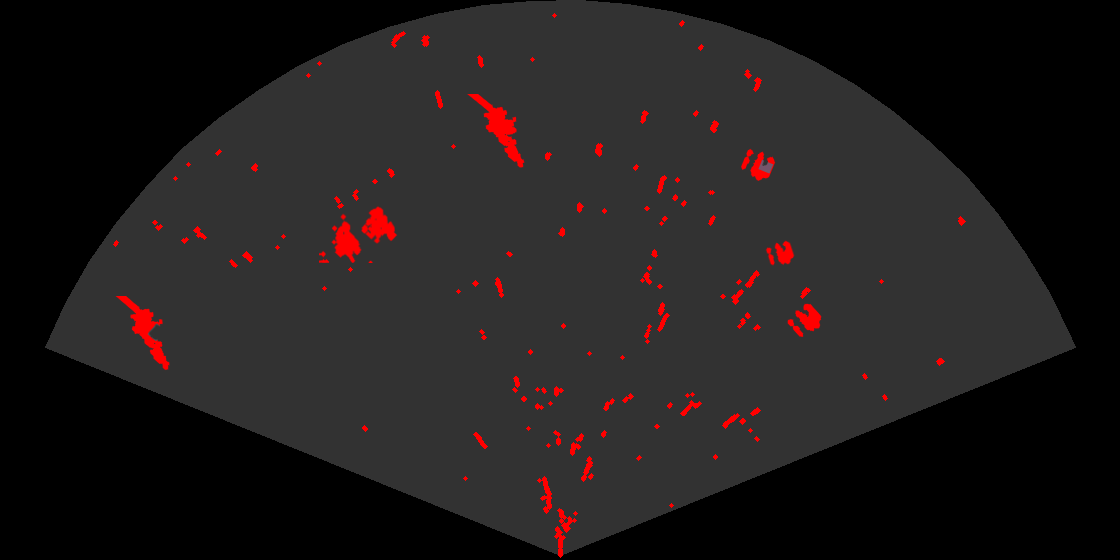ball: (786, 302, 823, 339), (739, 147, 777, 182), (764, 239, 796, 267)
cage: (319, 205, 399, 263)
frogman: (467, 94, 526, 169), (114, 296, 171, 372)
